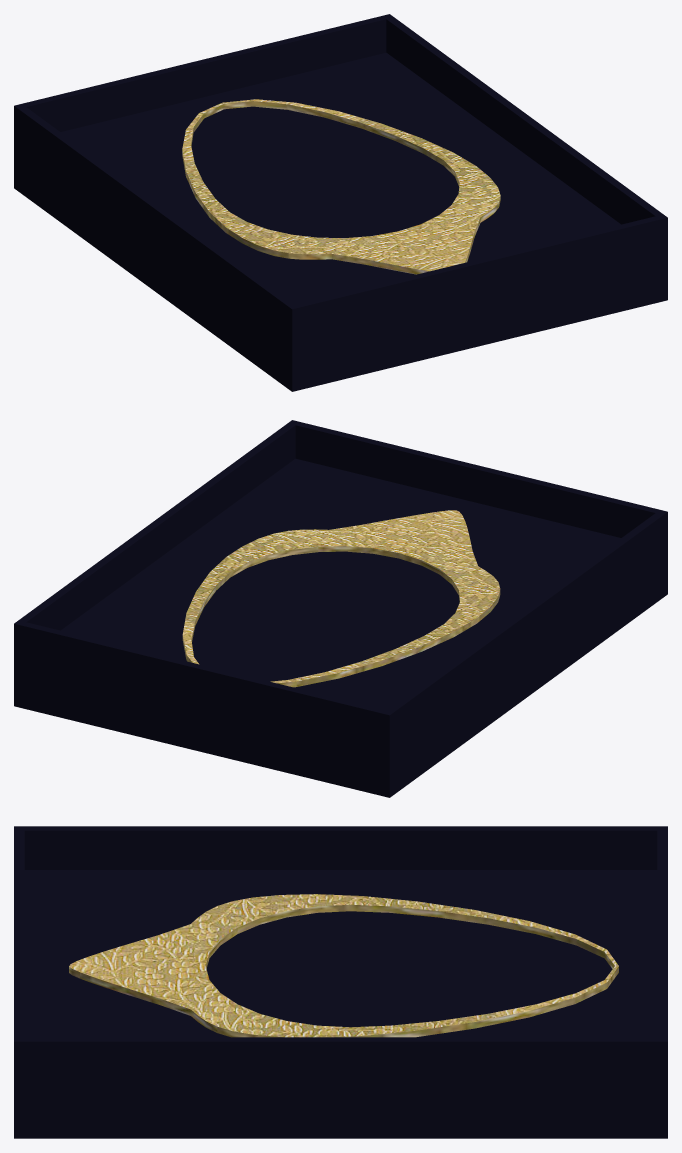
File: jewelry01.FBX
3 renders of one model, top to bottom at view 1: azimuth 30°, elevation 25°; view 2: azimuth 150°, elevation 25°; view 3: azimuth 270°, elevation 25°, orthographic. The views are drawn at different scales.
Parts seen in each view (by area): view 1: Box001, Circle001; view 2: Box001, Circle001; view 3: Box001, Circle001.
Boxes of the visible parts, x1,y1,x2,y2 form: Box001: (14, 14, 667, 391); Circle001: (182, 99, 500, 274); Box001: (14, 420, 667, 797); Circle001: (182, 510, 500, 687); Box001: (14, 826, 667, 1138); Circle001: (69, 894, 618, 1037).
Size of the model in its own units: 36.67 by 47.03 by 7.7.
2 materials, 1 textured.
